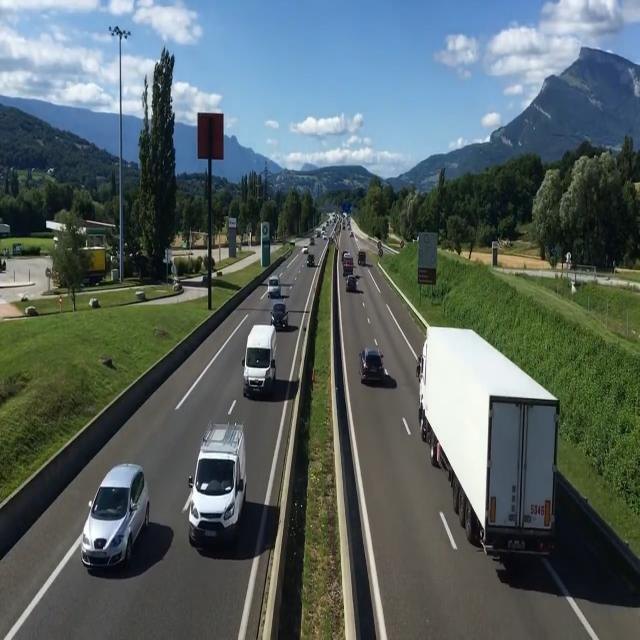car: (84, 463, 153, 576), (192, 421, 245, 556), (244, 322, 278, 398), (360, 344, 392, 390), (268, 300, 290, 332), (266, 274, 282, 298), (344, 272, 359, 292)
truck: (412, 317, 562, 604)
